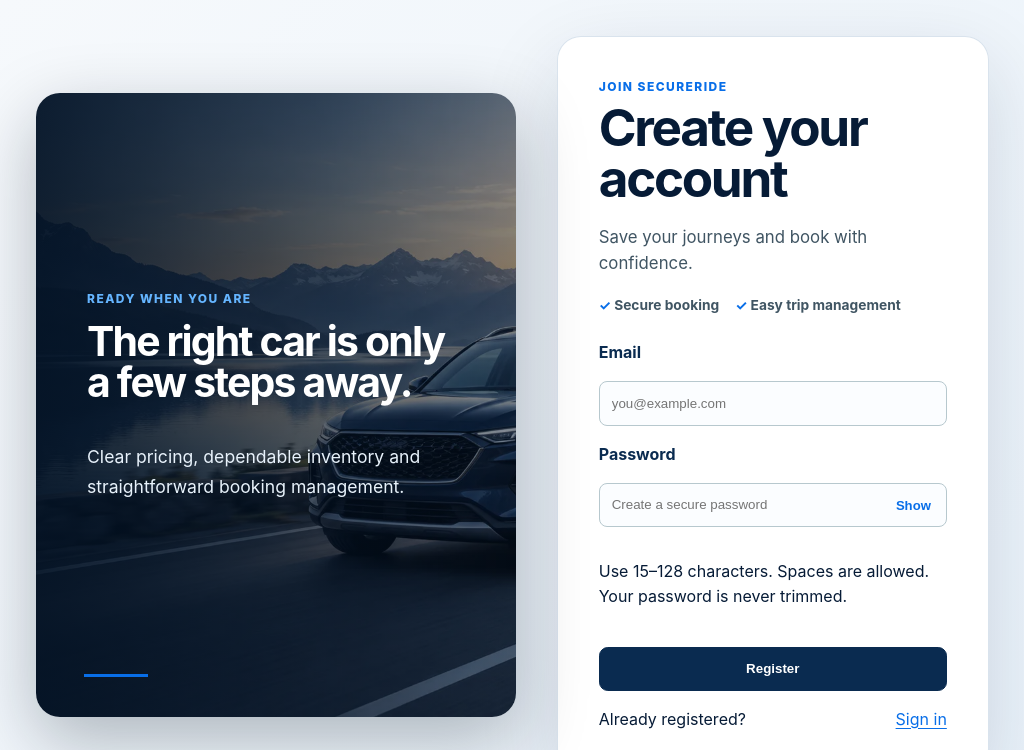
minimal authentication pages › shows a safe duplicate registration failure
Type "customer@example.invalid" into the field labelled "Email". click: (773, 403)
box: [599,381,947,426]
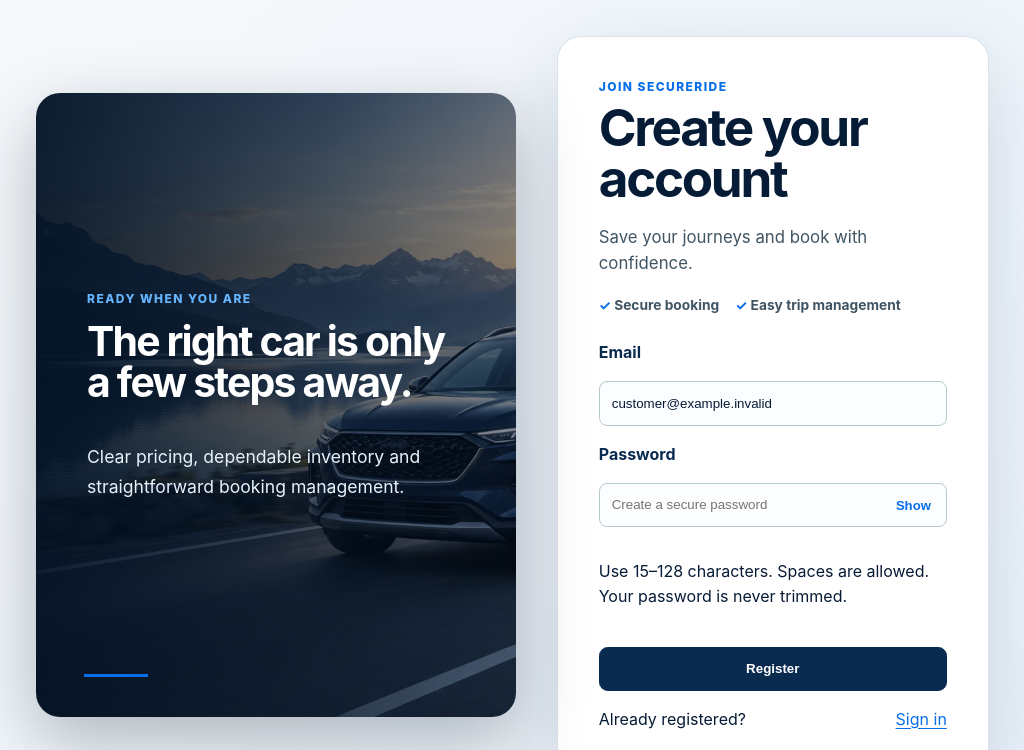
Type "a synthetic long passphrase" into the password field labelled "Password". click: (773, 505)
box: [599,482,947,527]
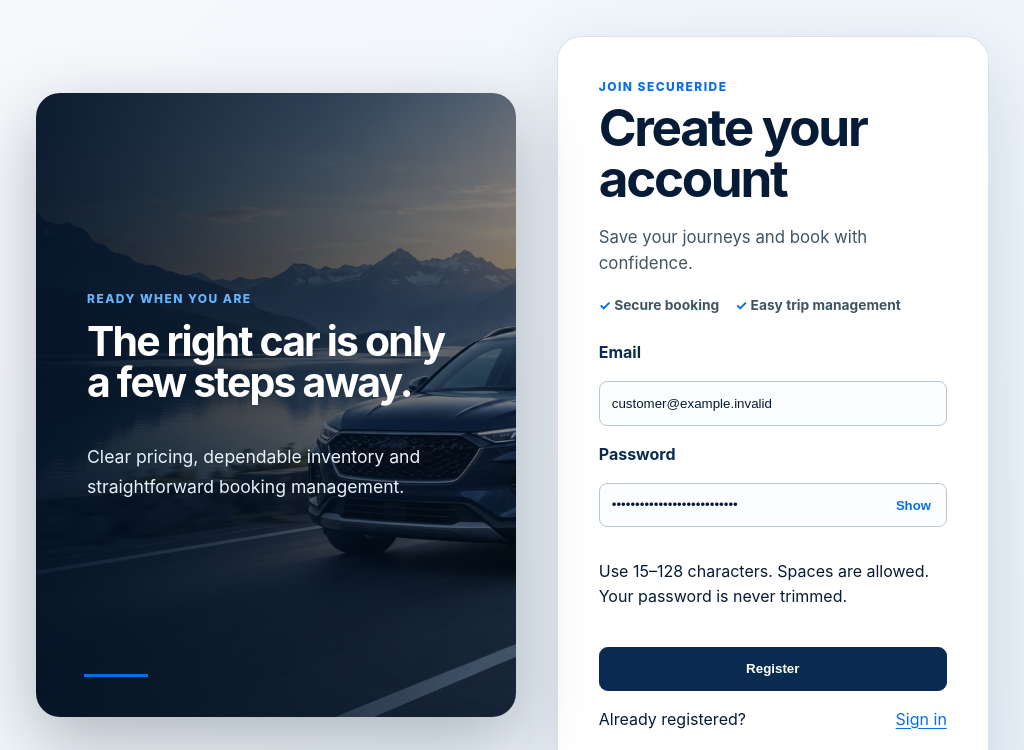
Click the button "Register". click: (773, 668)
box: [599,646,947,690]
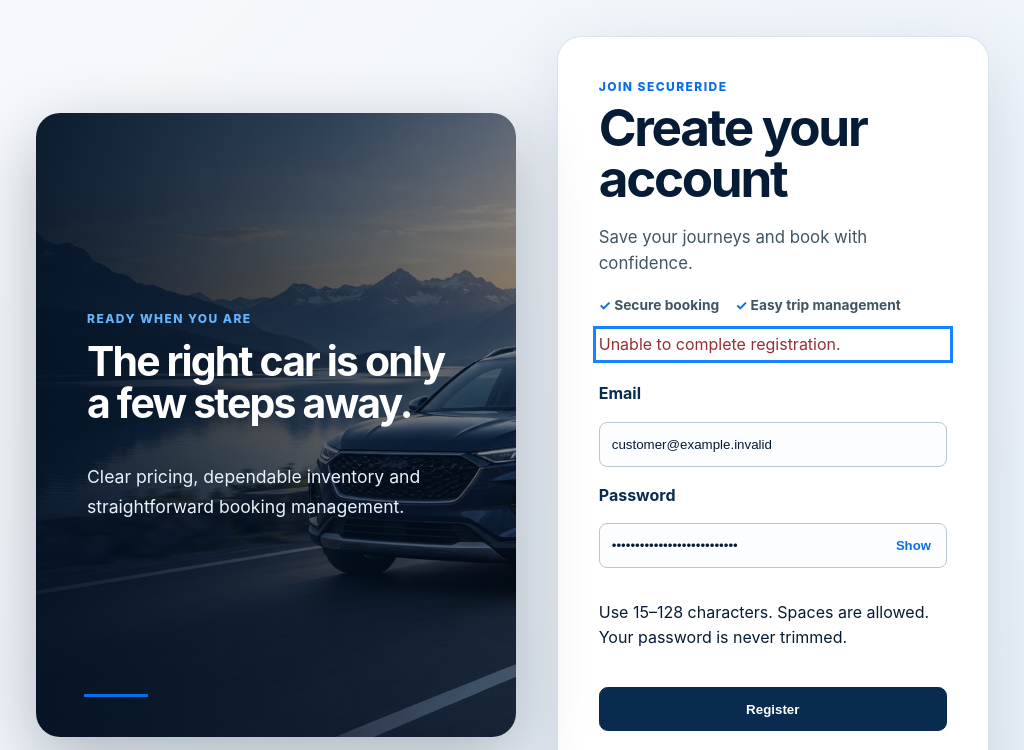
Result: the message shows "Unable to complete registration" at [599,334,841,354]
